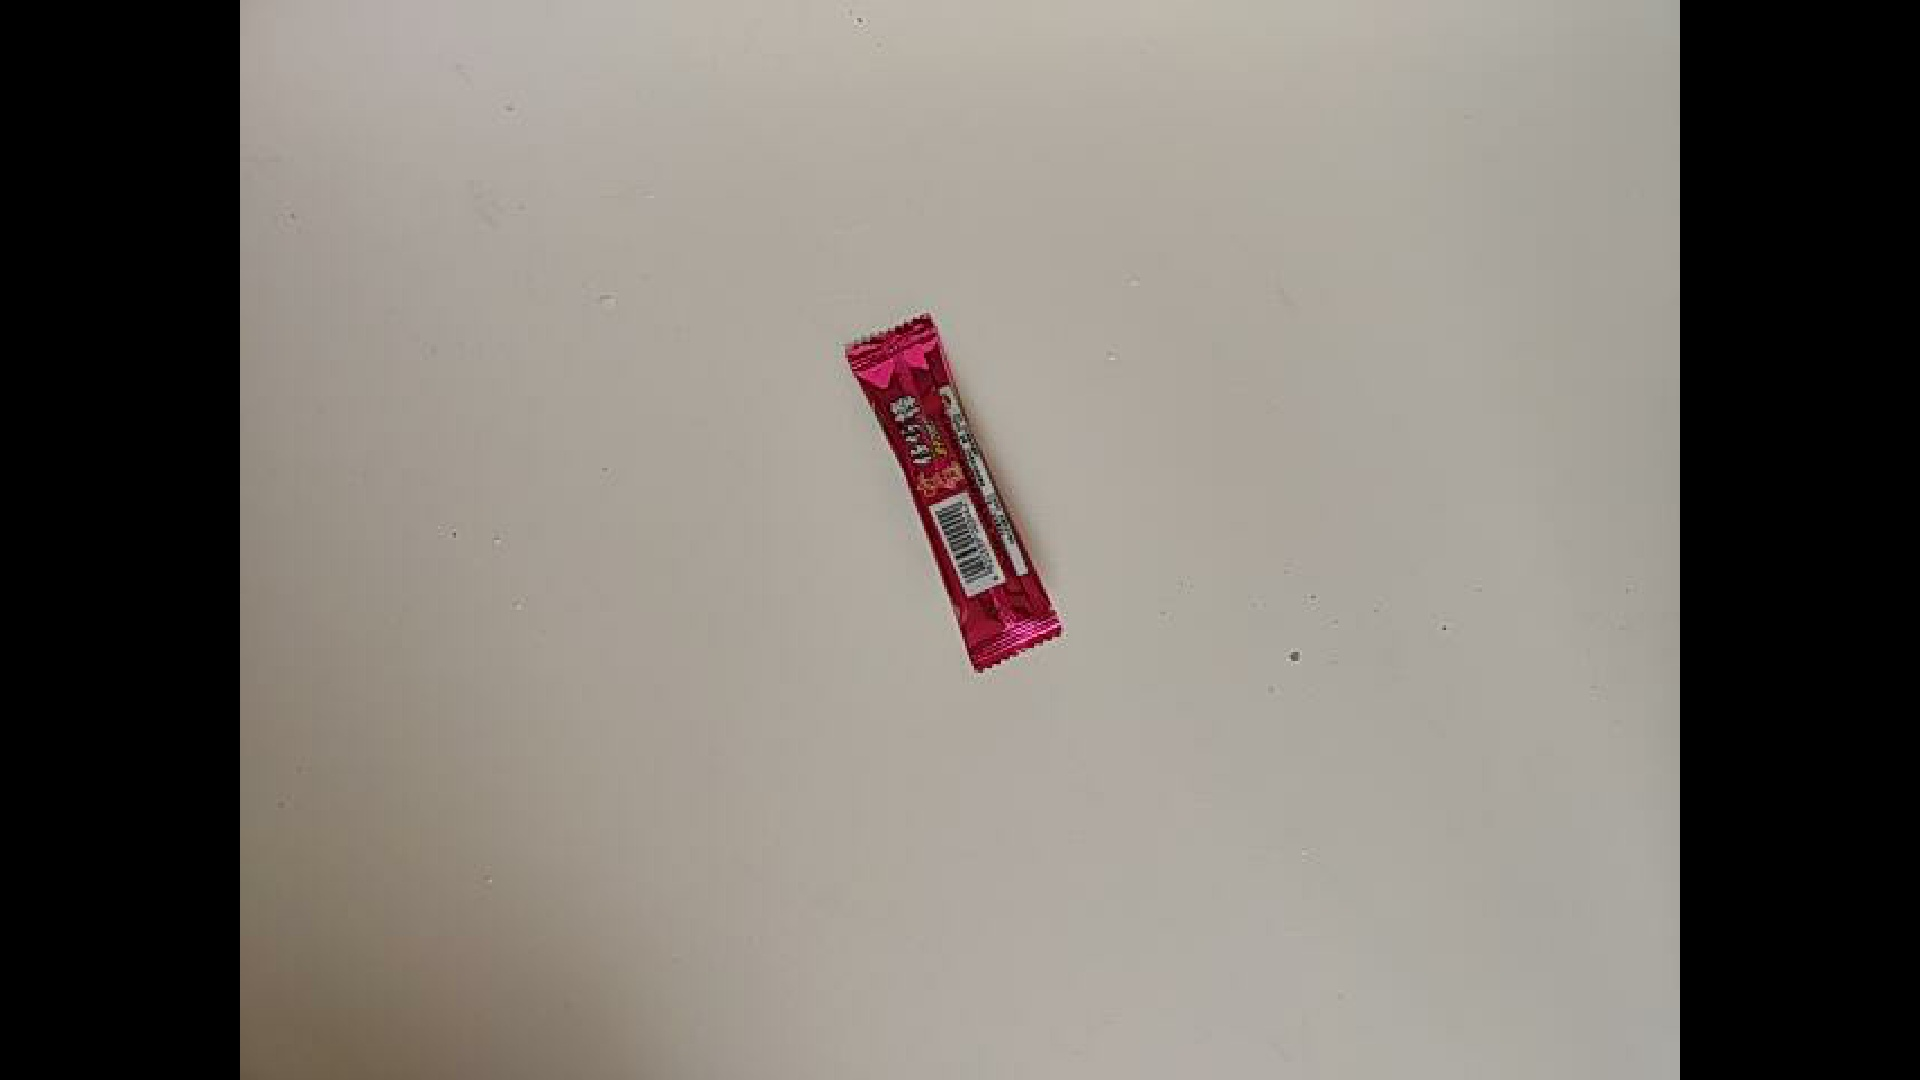sugar: (836, 322, 1179, 679)
